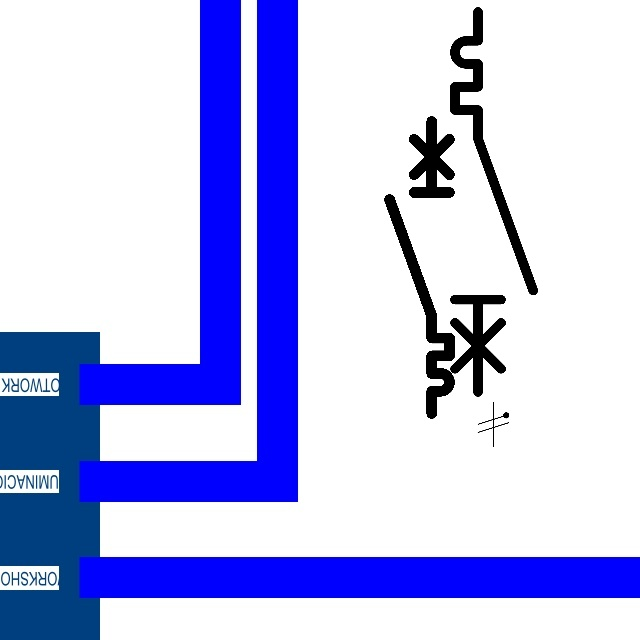interruptor_termomagnetico: (445, 2, 543, 402), (382, 114, 457, 421)
